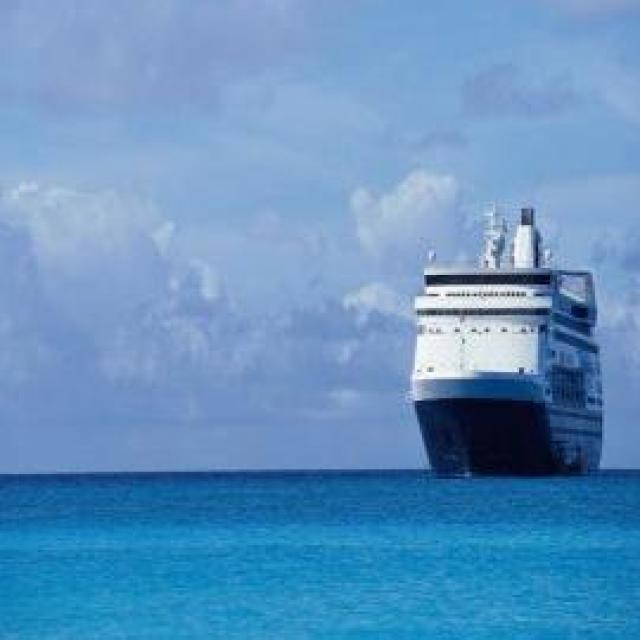passenger ship: (402, 199, 609, 473)
